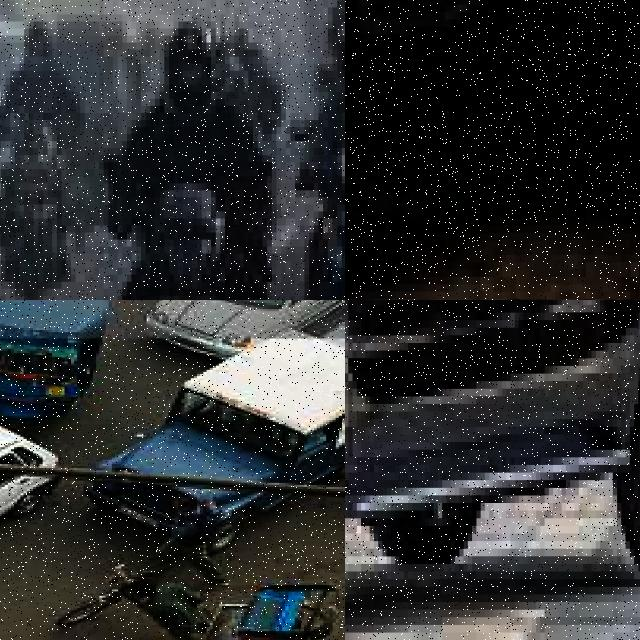bike: (103, 162, 276, 300), (0, 99, 80, 300), (290, 120, 345, 300)
car: (345, 300, 640, 640)
